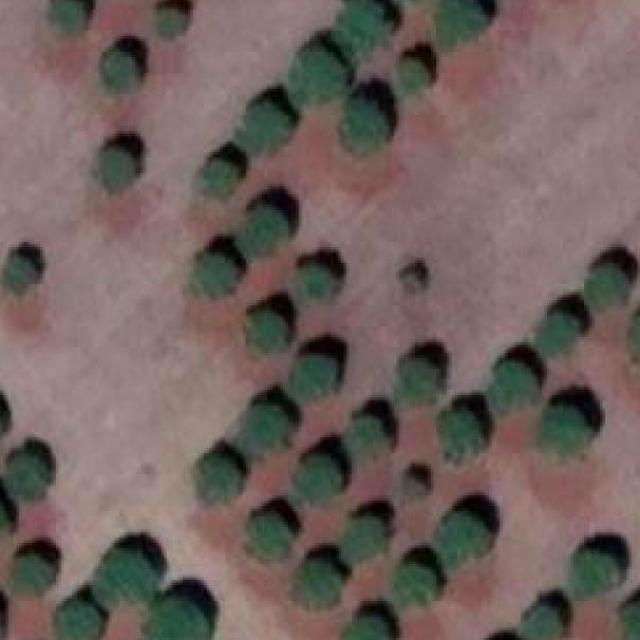Tree: (287, 52, 343, 102), (340, 0, 386, 57), (436, 513, 487, 564), (100, 551, 151, 599), (435, 0, 481, 50), (148, 599, 204, 640), (240, 408, 285, 458), (344, 99, 386, 152), (570, 553, 618, 599), (489, 363, 531, 414), (542, 406, 589, 451), (240, 210, 285, 256), (243, 105, 288, 150), (296, 562, 338, 609), (538, 311, 580, 358), (248, 511, 290, 557), (288, 355, 336, 395), (584, 263, 626, 308), (442, 408, 478, 458), (341, 520, 383, 562), (200, 456, 238, 502), (299, 458, 339, 501), (394, 564, 434, 606), (100, 46, 140, 88), (398, 356, 433, 403), (198, 250, 232, 298), (294, 268, 336, 305), (397, 258, 433, 300), (344, 419, 384, 456), (10, 554, 46, 594), (8, 456, 42, 498), (61, 603, 98, 640), (100, 147, 132, 187), (248, 314, 285, 348), (0, 256, 35, 290), (50, 0, 84, 34), (522, 608, 558, 640), (206, 160, 232, 196), (344, 617, 384, 640), (399, 62, 426, 94), (156, 9, 186, 36), (628, 311, 640, 361), (626, 604, 640, 640), (0, 387, 9, 443), (0, 495, 9, 540), (404, 480, 424, 500), (0, 593, 7, 640)
